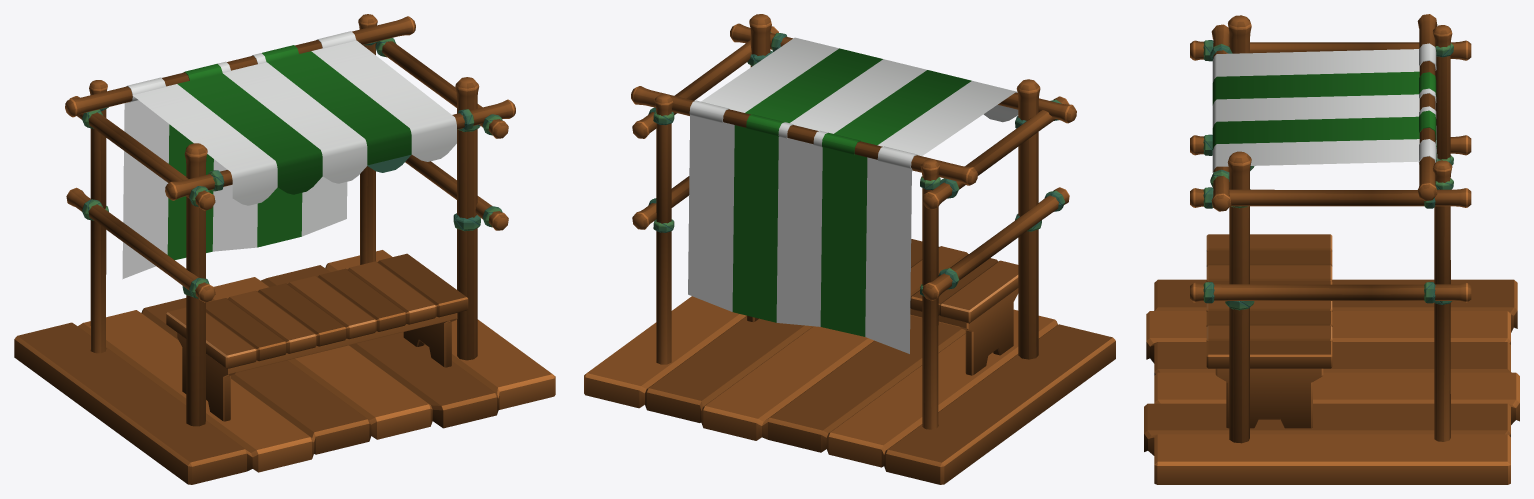
Rendered from Stall-3-2.fbx.
3 renders of one model, left to right at view 1: azimuth 30°, elevation 25°; view 2: azimuth 150°, elevation 25°; view 3: azimuth 270°, elevation 25°, orthographic. The views are drawn at different scales.
Parts seen in each view (by area): view 1: Stall-3-2; view 2: Stall-3-2; view 3: Stall-3-2.
Part boxes in pixels (left/top/right/bottom): Stall-3-2: left=14, top=14, right=555, bottom=484; Stall-3-2: left=584, top=14, right=1115, bottom=484; Stall-3-2: left=1144, top=14, right=1519, bottom=484.
Size of the model in its own units: 555 by 429 by 477.
